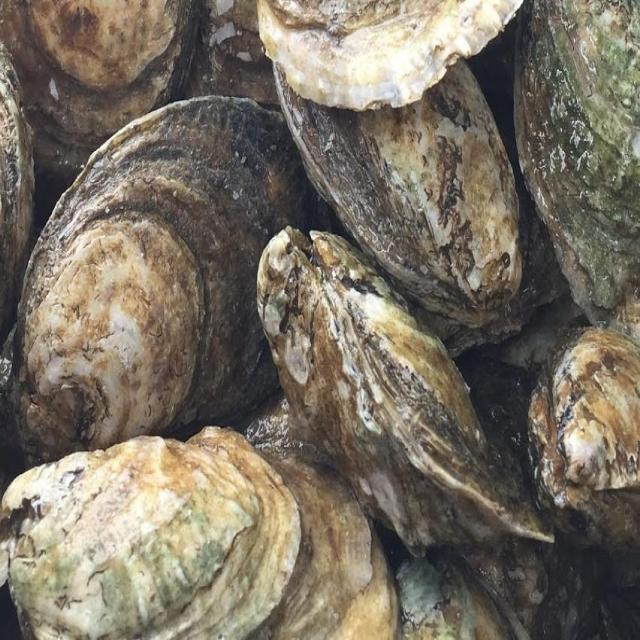Oyster- Indeterminate: (16, 95, 343, 468), (255, 227, 554, 584), (274, 62, 553, 346), (4, 428, 299, 640), (508, 0, 640, 332), (0, 0, 202, 192), (254, 0, 528, 113), (523, 327, 640, 569), (469, 546, 640, 640), (0, 61, 39, 312), (396, 555, 510, 640), (199, 0, 280, 111)
